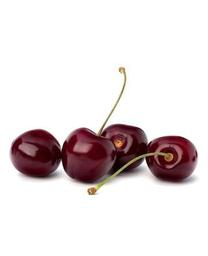cherry: (61, 127, 116, 184), (10, 129, 61, 178), (147, 136, 197, 183), (102, 124, 146, 171)
